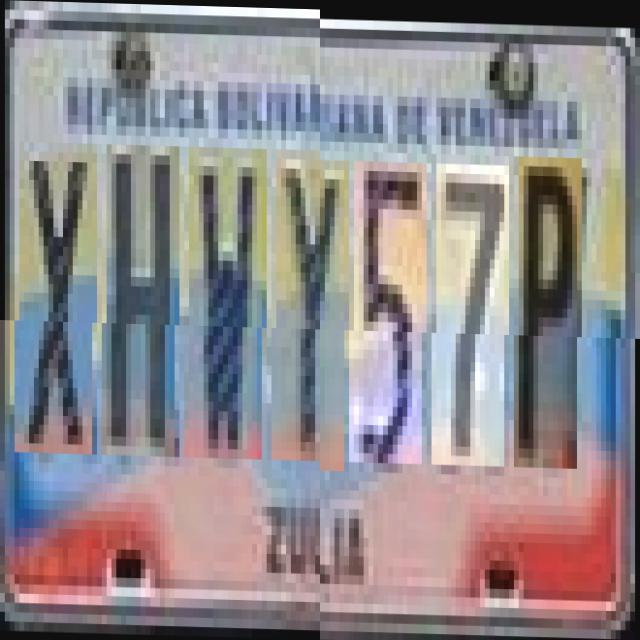5: (354, 158, 427, 462)
7: (436, 160, 509, 464)
H: (106, 154, 180, 466)
P: (519, 154, 582, 466)
W: (189, 156, 267, 468)
X: (19, 152, 97, 464)
Y: (276, 158, 349, 470)
